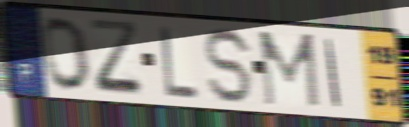I: (323, 36, 343, 110)
L: (158, 23, 201, 101)
M: (256, 29, 322, 111)
O: (40, 15, 93, 94)
S: (203, 25, 256, 105)
Z: (88, 17, 147, 99)
